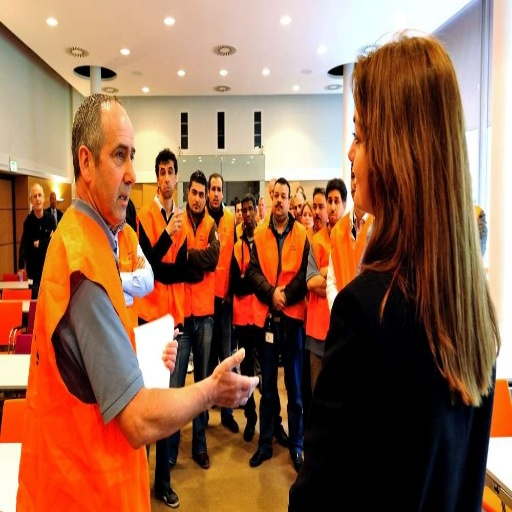hand: (210, 345, 259, 406), (161, 326, 179, 371), (167, 202, 183, 237), (272, 284, 285, 313), (131, 252, 146, 269), (318, 265, 326, 278)
